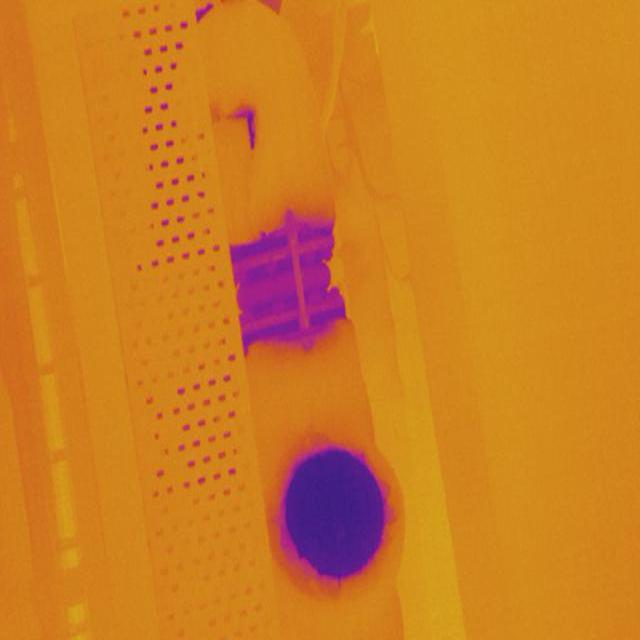leakage: (224, 104, 264, 152)
